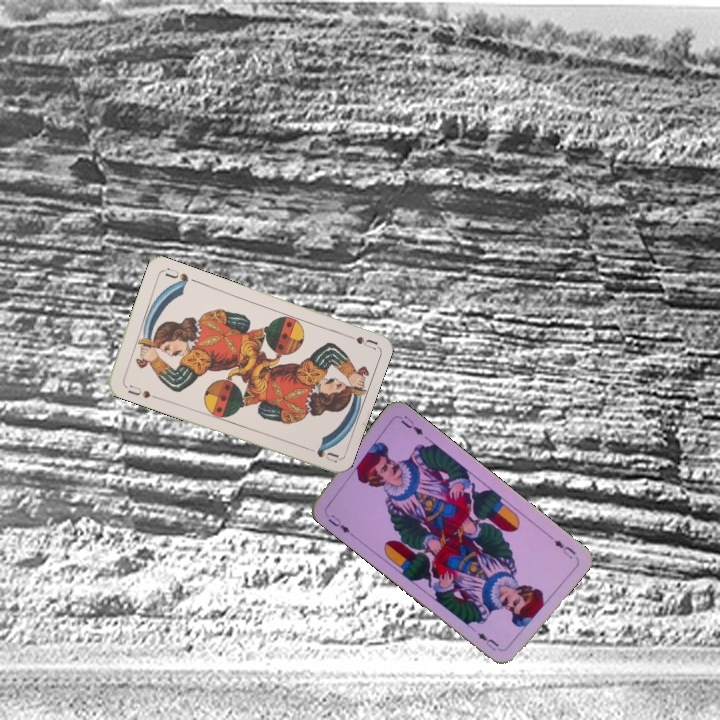EU: (320, 507, 354, 537), (550, 536, 579, 561)
SU: (339, 329, 379, 352), (124, 380, 153, 401)
